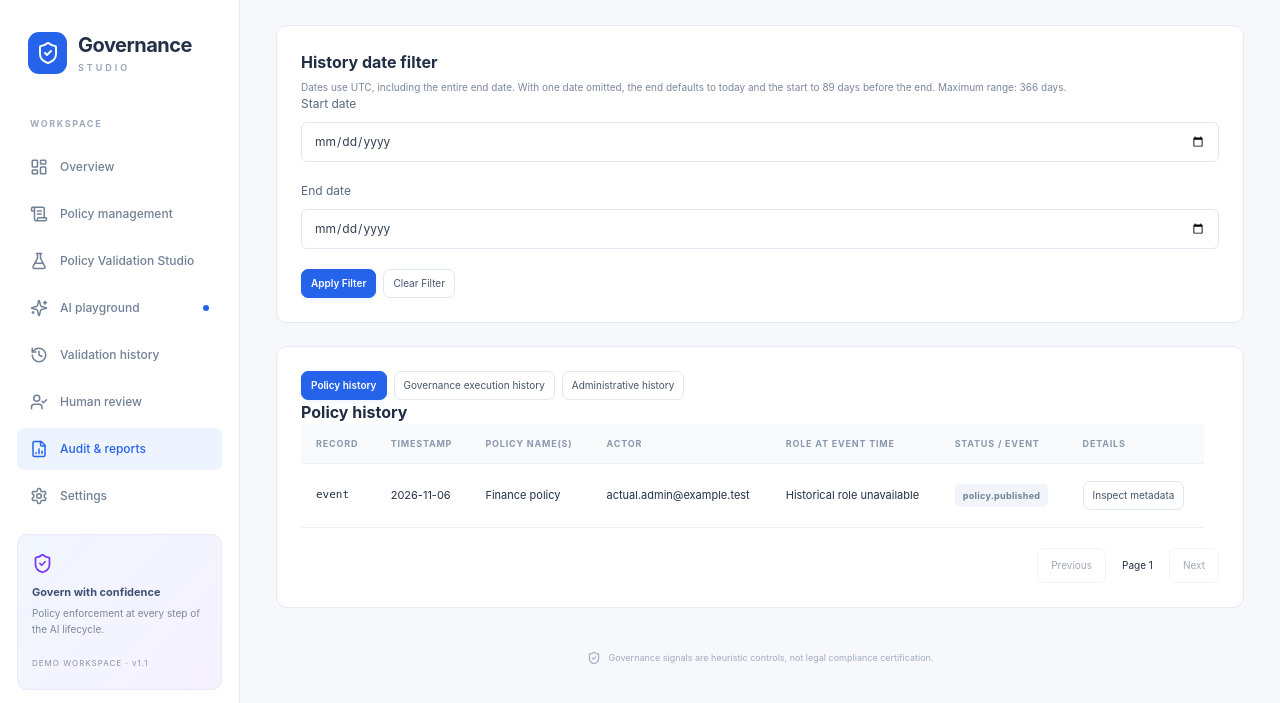
shows actor attribution, safe categories and pinned names/versions in separate audit histories
(page scrolled)
Check: the text "policy.published" is shown, box [955,484,1048,507]
Check: the text "Historical role unavailable" is shown, box [771,464,940,528]
Click the button "Governance execution history" at [474, 385], box [394,371,555,400]
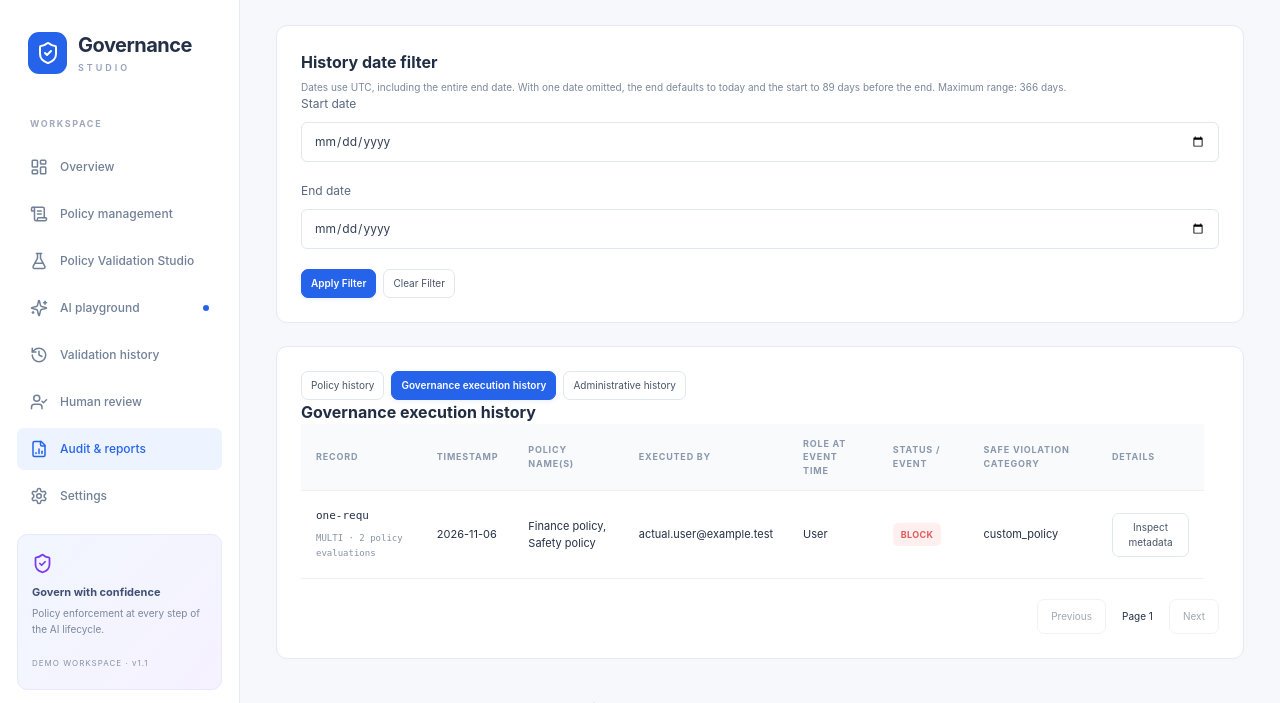
Check: the text "actual.user@example.test" is shown, box [624,491,788,579]
Check: the text "Finance policy, Safety policy" is shown, box [513,491,624,579]
Check: the text "custom_policy" is shown, box [968,491,1097,579]
Click the button "Inspect metadata" at [1150, 535], box [1112,513,1189,557]
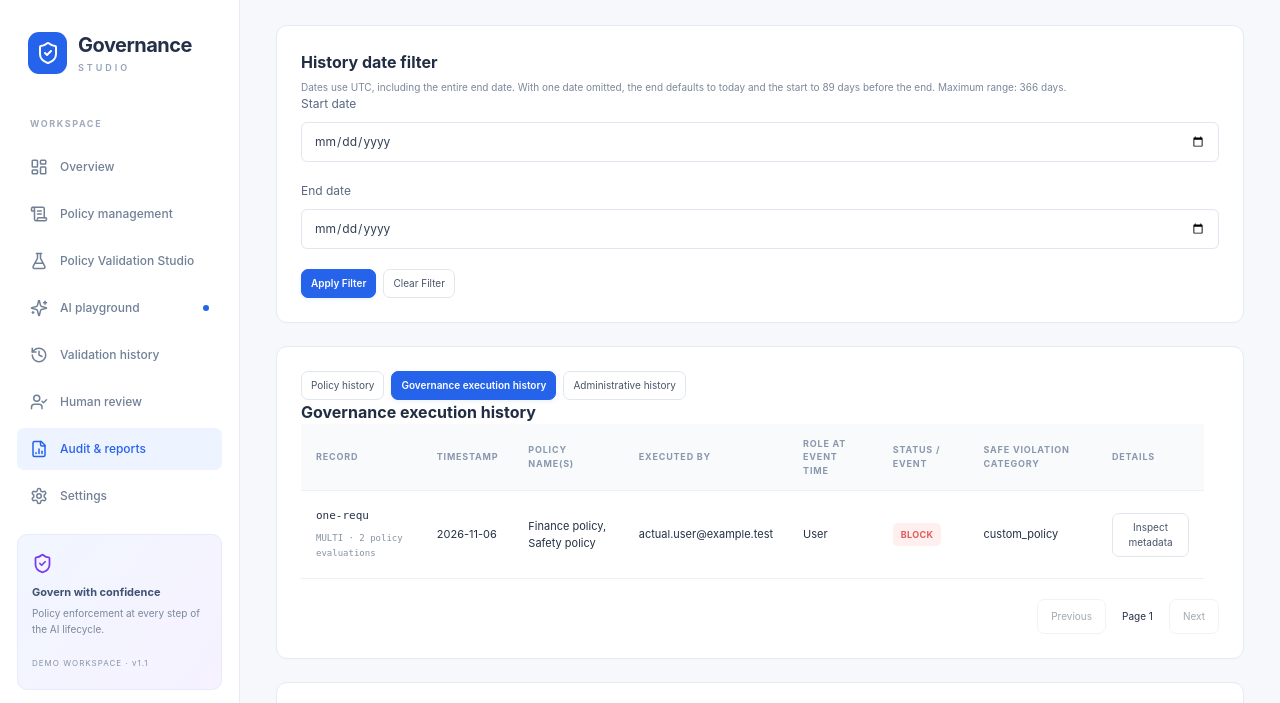
Click the button "Administrative history" at [625, 385], box [563,371,686,400]
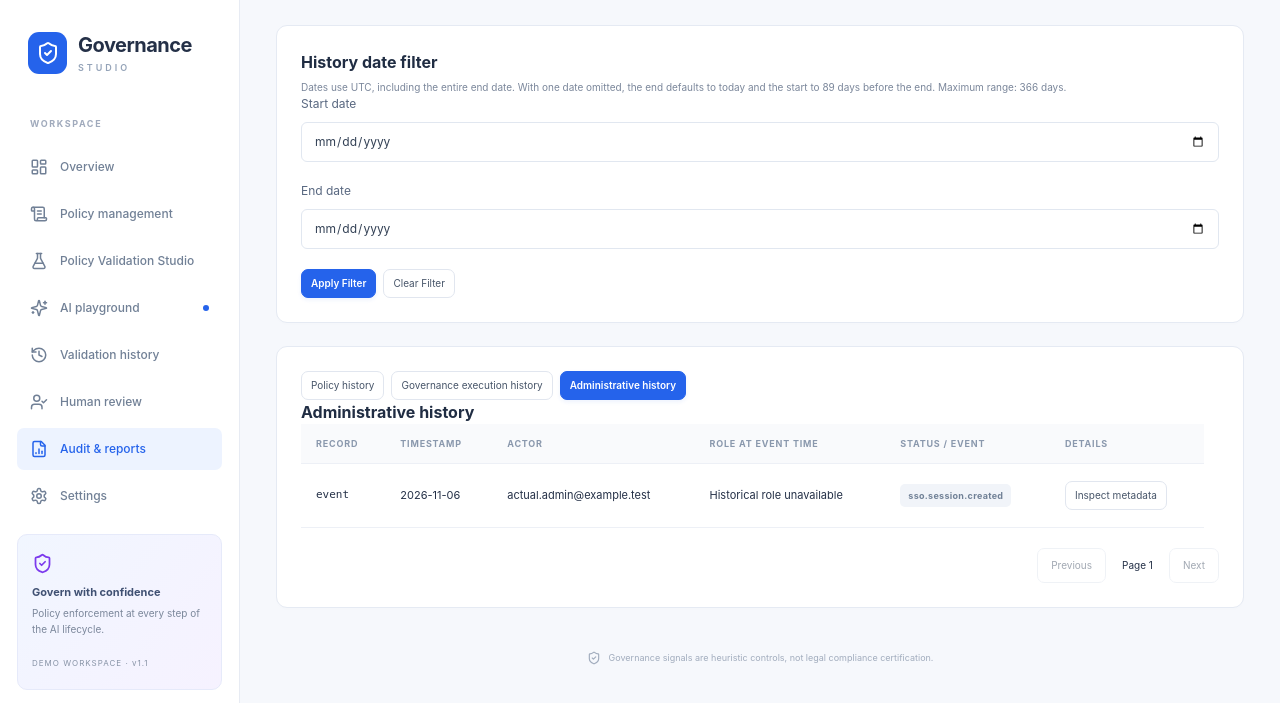
Check: the text "sso.session.created" is shown, box [900,484,1011,507]
